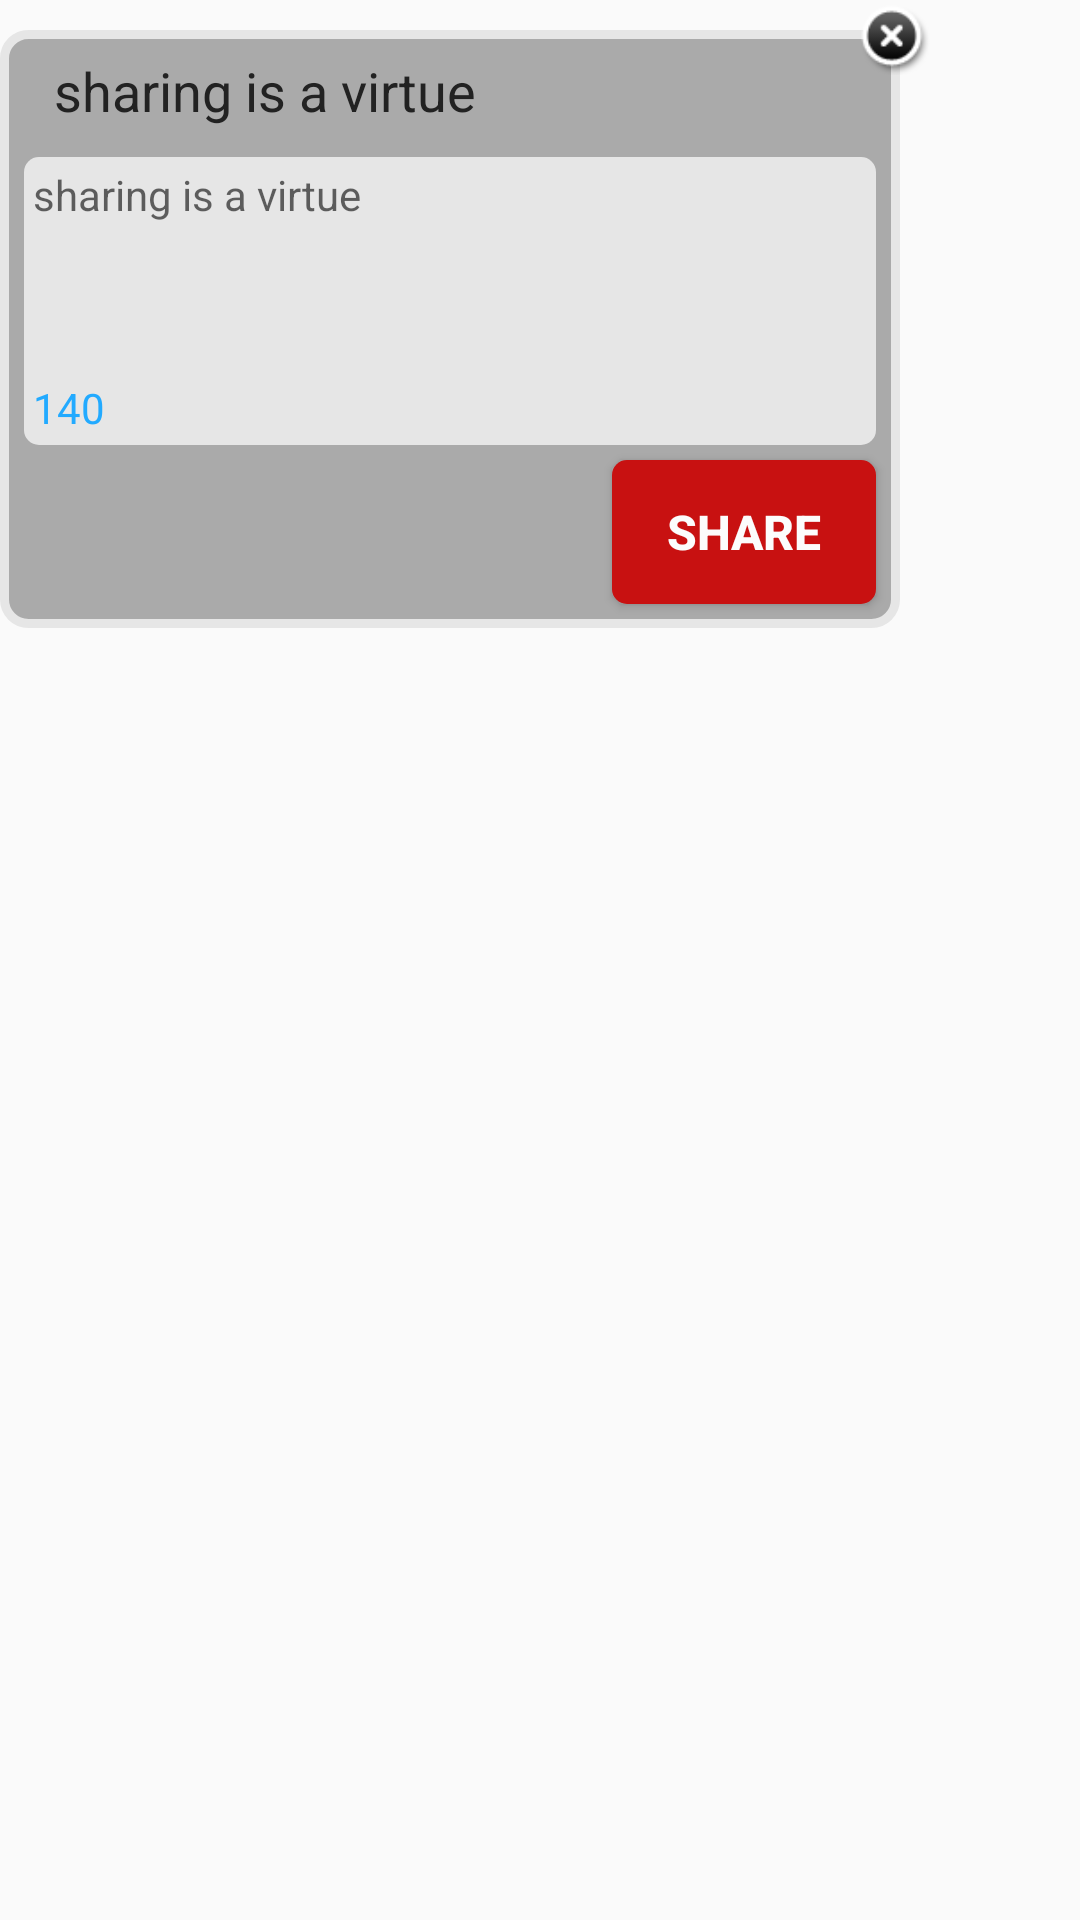

Locate icon controls on the screen. Image size 1080x1920, boxes as bbox(x1, y1, x2, y2).
close: bbox(866, 11, 917, 61)
